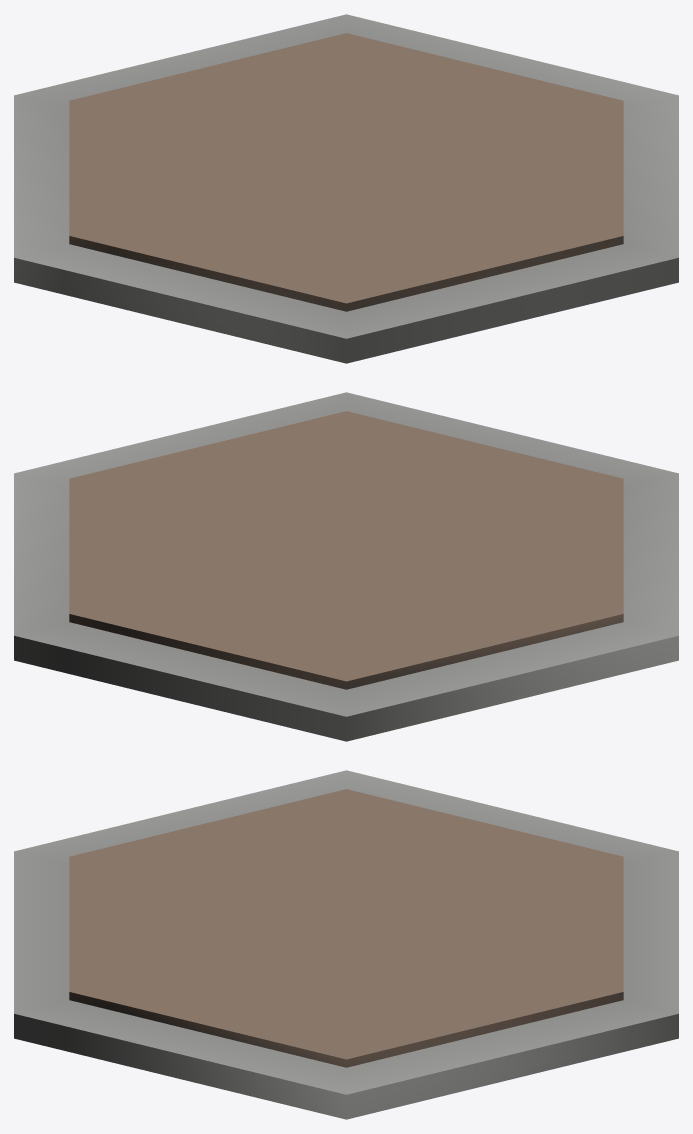
The model's file is manhole.lod2.glb.
3 views of the same model, one above another, from view 1: azimuth 30°, elevation 25°; view 2: azimuth 150°, elevation 25°; view 3: azimuth 270°, elevation 25° (orthographic).
Visible parts, largest first — view 1: props_manhole.lod2; view 2: props_manhole.lod2; view 3: props_manhole.lod2.
Part boxes in pixels (bbox=[...]): props_manhole.lod2: bbox=[14, 14, 678, 363]; props_manhole.lod2: bbox=[14, 392, 678, 741]; props_manhole.lod2: bbox=[14, 770, 678, 1119].
Bounding box in the file's own units: 0.84 × 0.04 × 0.7275.
